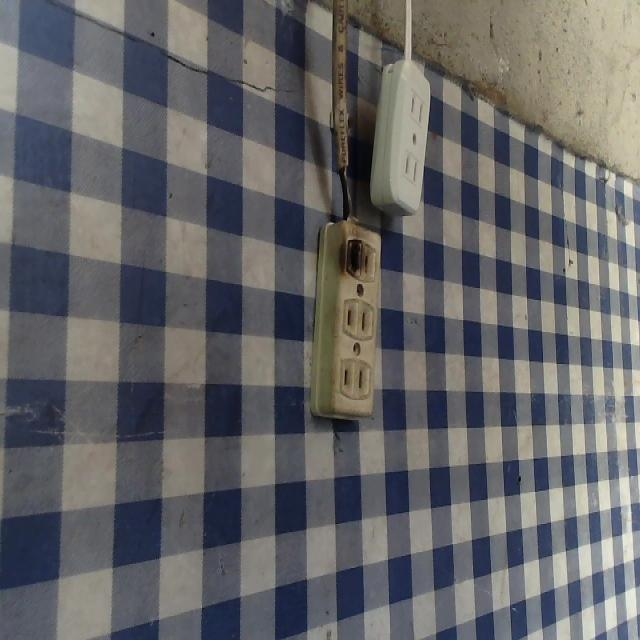-: (337, 227, 366, 284)
